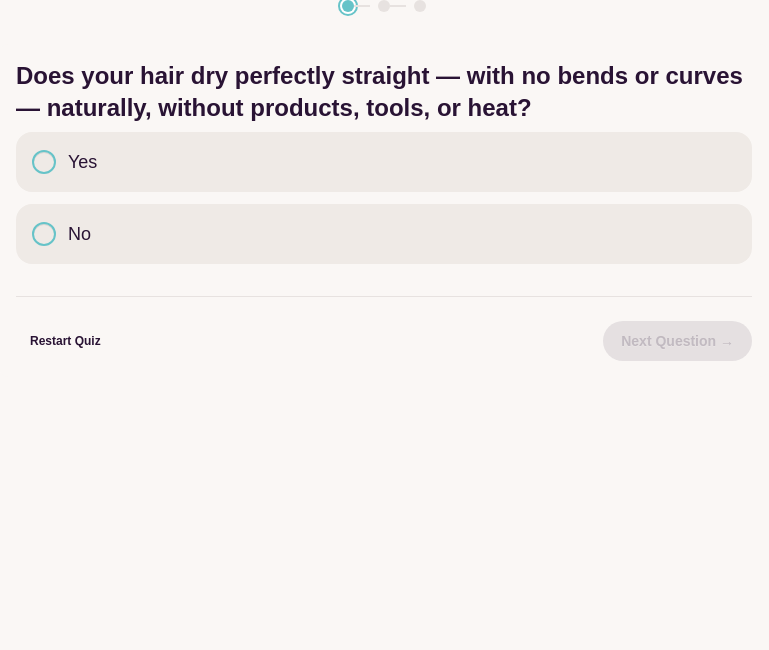
Test: NewQuiz Component › Quiz flow - Waves path › primary pattern question appears after No on straight gate
The image size is (769, 650).
Expected: the heading "Does your hair dry perfectly straight" is shown, [16,62,743,121]
Click the radio button labelled "No" at point(44, 234), box [32,222,56,246]
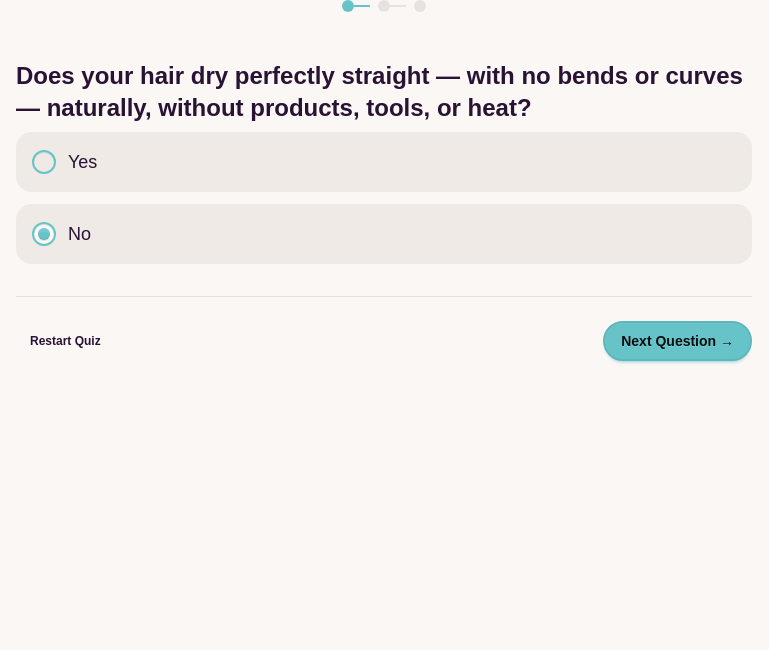
Click the button "Next Question →" at point(678, 341), box [603,321,752,361]
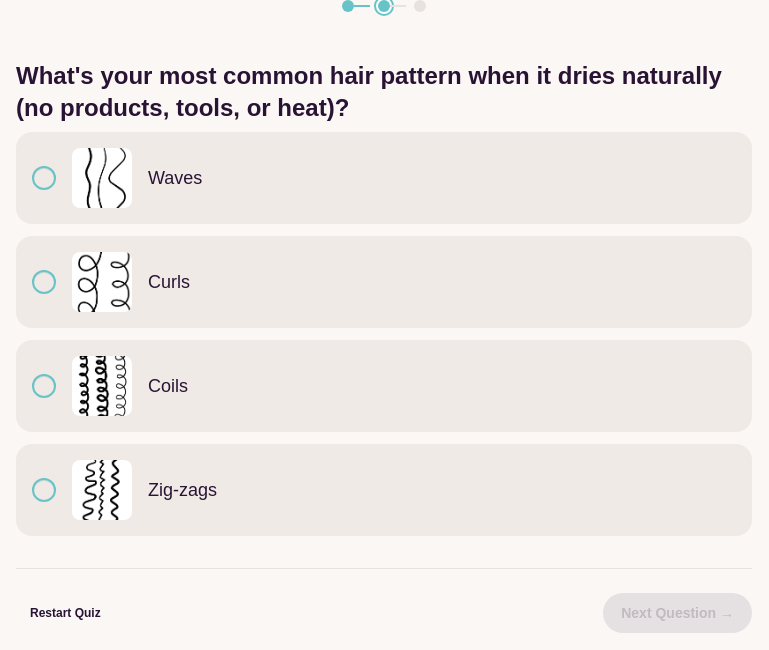
Now the heading "What's your most common hair pattern" is shown, box [16,62,722,121]
